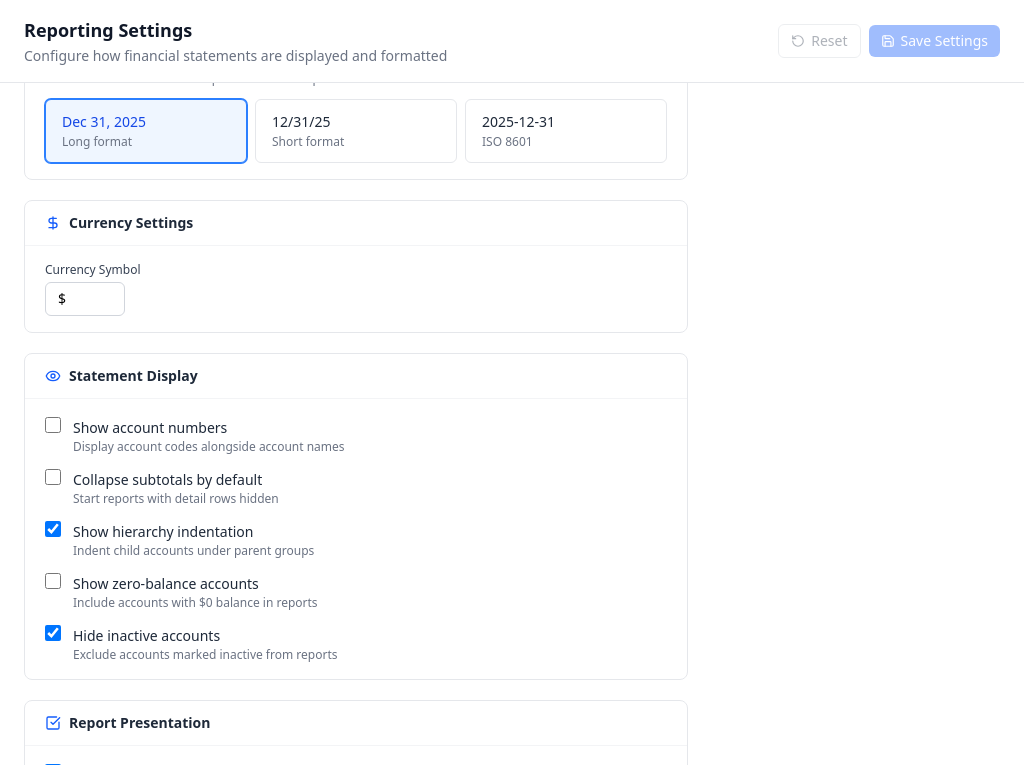
Scenario: ReportingSettingsPage › show account numbers toggle fires change
The image size is (1024, 765).
(page scrolled)
expect the text "Show account numbers" is shown: met, box [73,418,227,437]
Click the checkbox labelled "Show account numbers": x=53, y=425 [45,417,61,433]
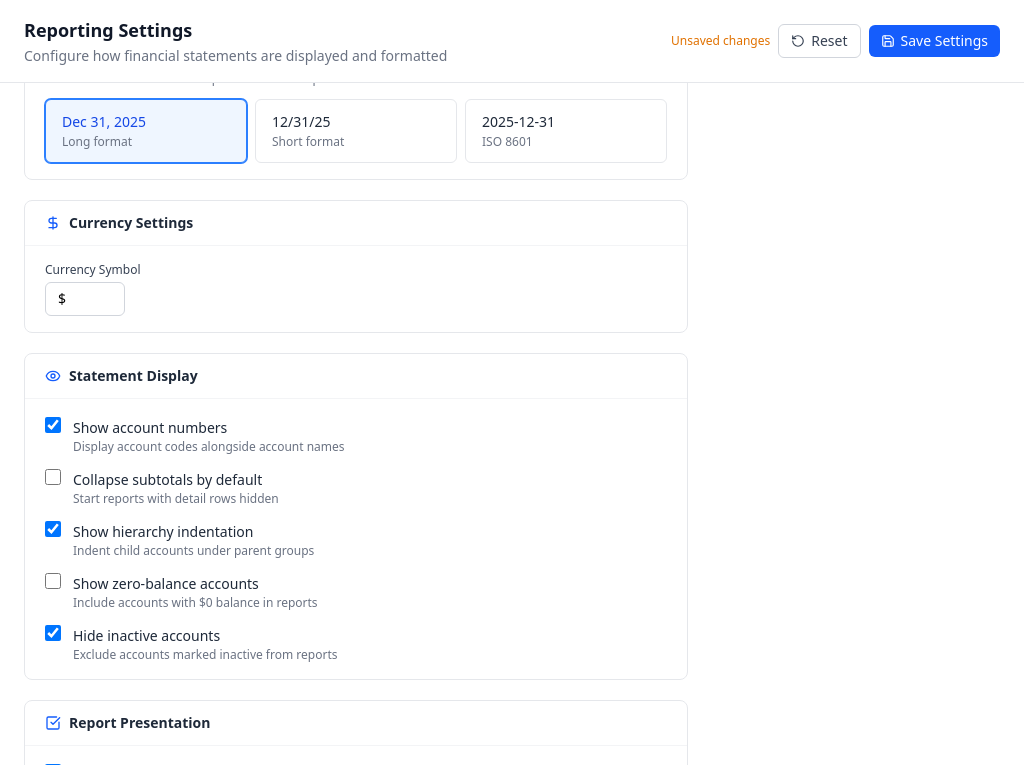
expect the text "Unsaved changes" is shown: met, box [671,33,770,49]
